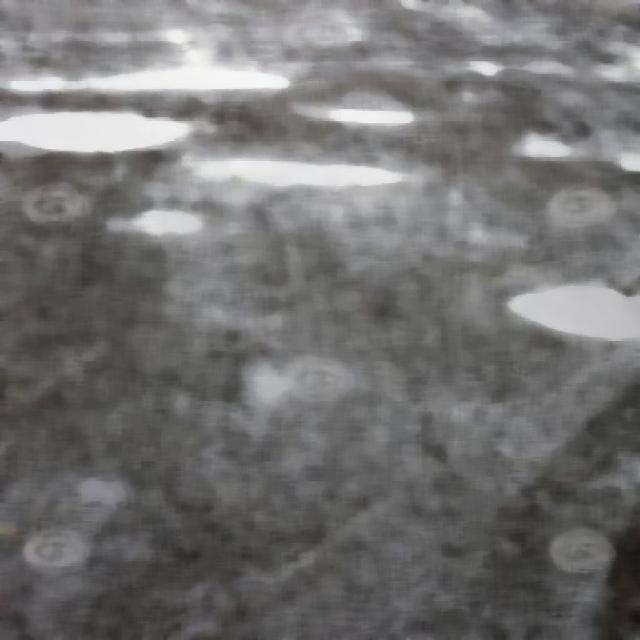Pothole: (183, 122, 397, 201), (1, 87, 182, 167), (472, 105, 640, 188), (274, 70, 412, 145), (540, 270, 638, 356)
